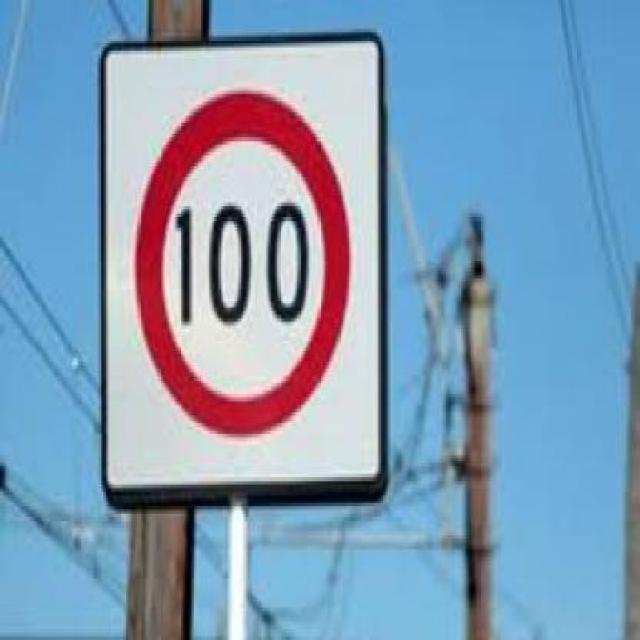speed limit 100: (136, 91, 351, 436)
